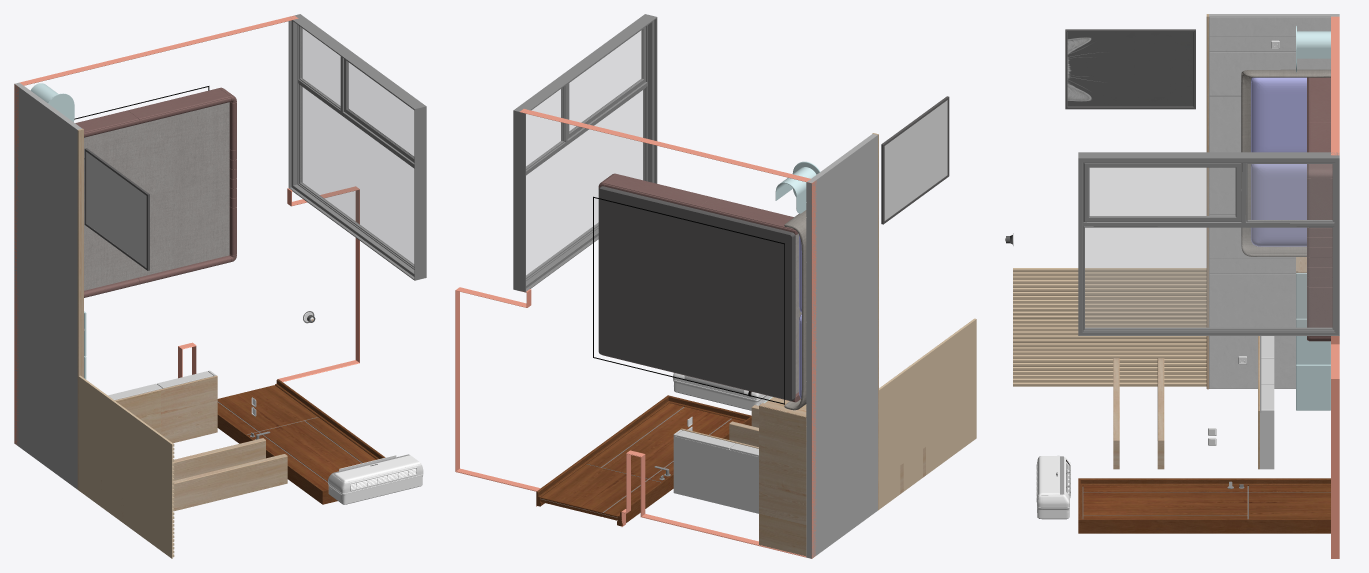
File: boy.glb
The picture shows the model from 3 angles, left to right: view 1: azimuth 30°, elevation 25°; view 2: azimuth 150°, elevation 25°; view 3: azimuth 270°, elevation 25°; orthographic projection. The views are drawn at different scales.
Parts seen in each view (by area): view 1: Group 39, Group 5, Groups-055, Group 47, Component#1, Group 50, Groups-032, Group 32, Groups-050, Groups-056, Component#58 (×3), Group 56 (+12 smaller); view 2: Group 39, Group 7, Group 8, Groups-055, Group 47, Component#1, Groups-052, Groups-032, Group 50, Groups-051, Group 32, Group 56 (+13 smaller); view 3: Group 47, Groups-055, Group 39, Group 31, Group 32, Component#1, Group 56, Component#152, Group 62, Group 20, Group 21, Group 52 (+23 smaller).
Boxes of the visible parts, x1=… form: Group 39: x1=14, y1=82, x2=81, y2=489; Group 5: x1=84, y1=102, x2=229, y2=290; Groups-055: x1=78, y1=375, x2=174, y2=558; Group 47: x1=301, y1=86, x2=413, y2=264; Component#1: x1=217, y1=385, x2=376, y2=490; Group 50: x1=288, y1=14, x2=426, y2=280; Groups-032: x1=14, y1=15, x2=359, y2=445; Group 32: x1=86, y1=152, x2=146, y2=267; Groups-050: x1=115, y1=375, x2=217, y2=443; Groups-056: x1=122, y1=454, x2=287, y2=513; Component#58 (×3): x1=75, y1=88, x2=231, y2=284; Group 56: x1=348, y1=62, x2=413, y2=156; Group 39: x1=806, y1=134, x2=877, y2=558; Group 7: x1=598, y1=232, x2=795, y2=400; Group 8: x1=598, y1=186, x2=795, y2=357; Groups-055: x1=879, y1=318, x2=976, y2=509; Group 47: x1=526, y1=89, x2=644, y2=276; Component#1: x1=540, y1=403, x2=743, y2=518; Groups-052: x1=759, y1=397, x2=806, y2=556; Groups-032: x1=455, y1=109, x2=816, y2=558; Group 50: x1=513, y1=14, x2=657, y2=292; Groups-051: x1=673, y1=429, x2=758, y2=513; Group 32: x1=884, y1=100, x2=947, y2=220; Group 56: x1=569, y1=30, x2=641, y2=131; Group 47: x1=1085, y1=228, x2=1332, y2=328; Groups-055: x1=1013, y1=268, x2=1206, y2=386; Group 39: x1=1209, y1=14, x2=1339, y2=388; Group 31: x1=1067, y1=32, x2=1193, y2=106; Group 32: x1=1067, y1=32, x2=1193, y2=106; Component#1: x1=1082, y1=485, x2=1330, y2=519; Group 56: x1=1090, y1=168, x2=1235, y2=215; Component#152: x1=1078, y1=478, x2=1330, y2=533; Group 62: x1=1248, y1=164, x2=1332, y2=220; Group 20: x1=1251, y1=77, x2=1306, y2=152; Group 21: x1=1251, y1=164, x2=1306, y2=246; Group 52: x1=1079, y1=159, x2=1338, y2=334.
Size of the model in its own units: 3.75 by 3.93 by 3.21.
Materials: 34 (10 with a texture image).
